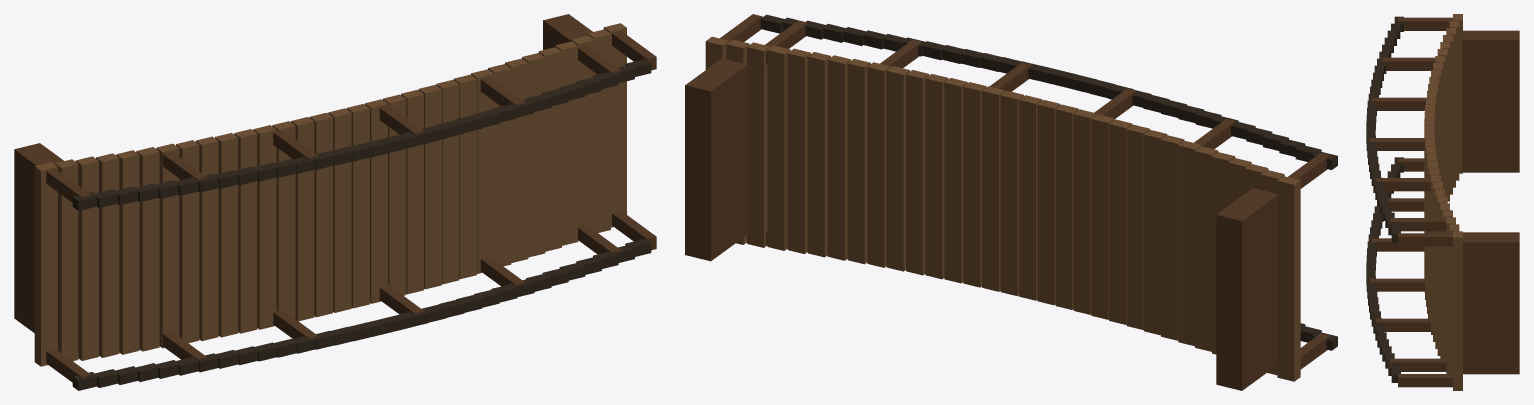
File: TP_DBA_PCG_WoodBridge.obj
3 views of the same model, side by side, from view 1: azimuth 30°, elevation 25°; view 2: azimuth 150°, elevation 25°; view 3: azimuth 270°, elevation 25° (orthographic). The views are drawn at different scales.
Parts seen in each view (by area): view 1: TP_DBA_PCG_WoodBridge; view 2: TP_DBA_PCG_WoodBridge; view 3: TP_DBA_PCG_WoodBridge.
Part boxes in pixels (box(x1,y1,x2,y2)): TP_DBA_PCG_WoodBridge: box(14, 14, 656, 390); TP_DBA_PCG_WoodBridge: box(685, 14, 1337, 390); TP_DBA_PCG_WoodBridge: box(1366, 14, 1519, 390).
Size of the model in its own units: 798 by 255 by 231.
